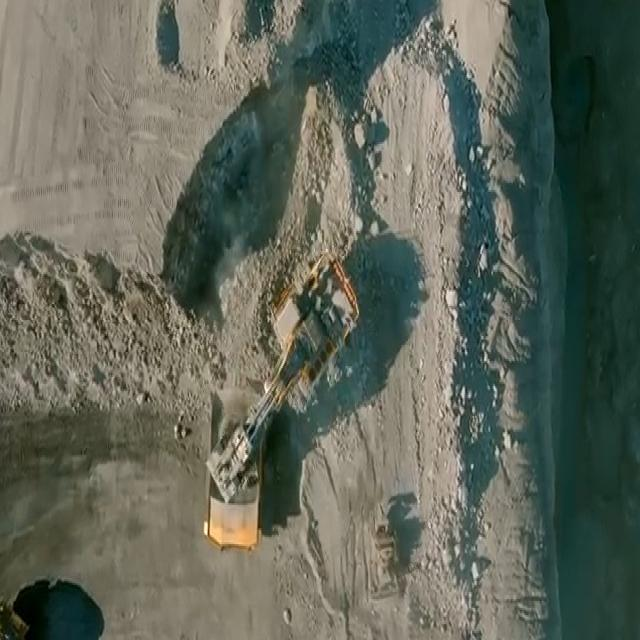excavator: (210, 264, 360, 487)
